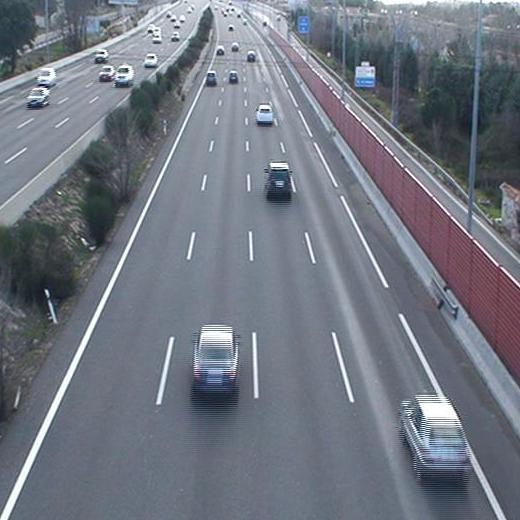car: (395, 396, 473, 484), (189, 325, 242, 398), (261, 161, 293, 196), (254, 103, 274, 125), (205, 70, 217, 85), (226, 71, 239, 84), (245, 50, 258, 63), (215, 45, 226, 58)
